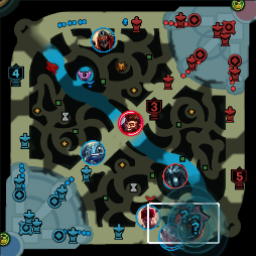fizz: (80, 140, 104, 163)
karthus: (161, 163, 186, 189)
leesin: (136, 205, 160, 228)
monkeyking: (117, 110, 143, 135)
rakan: (158, 223, 182, 246)
zed: (91, 27, 115, 53)
